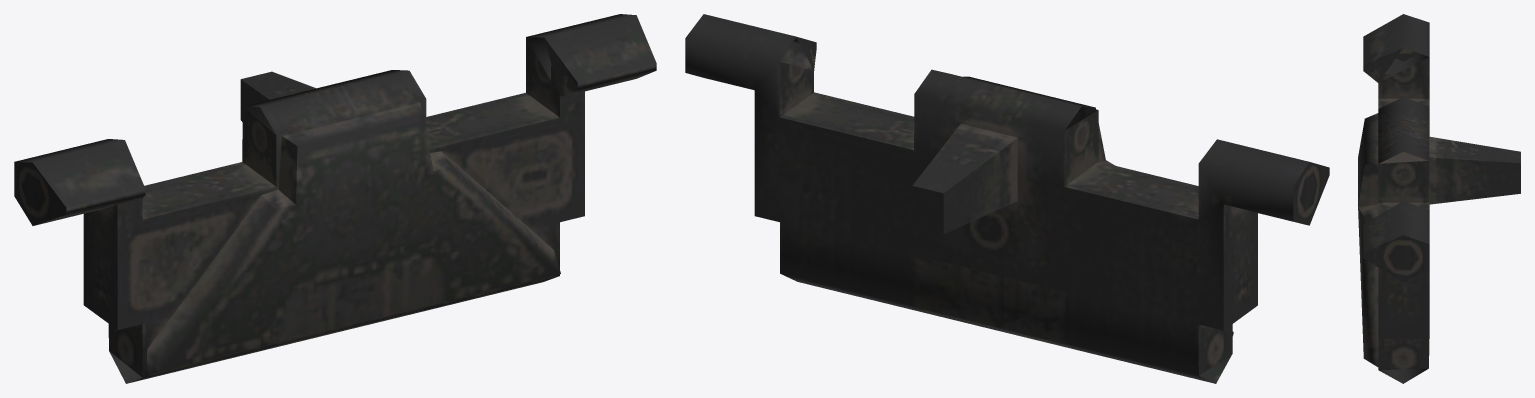
The picture shows the model from 3 angles, left to right: view 1: azimuth 30°, elevation 25°; view 2: azimuth 150°, elevation 25°; view 3: azimuth 270°, elevation 25°; orthographic projection. The views are drawn at different scales.
Parts seen in each view (by area): view 1: set_0_group_0; view 2: set_0_group_0; view 3: set_0_group_0.
Part boxes in pixels (bbox=[...]): set_0_group_0: bbox=[14, 14, 656, 383]; set_0_group_0: bbox=[685, 14, 1329, 383]; set_0_group_0: bbox=[1358, 14, 1520, 383].
Size of the model in its own units: 0.4833 by 0.1861 by 0.15.
Materials: 1 (1 with a texture image).
